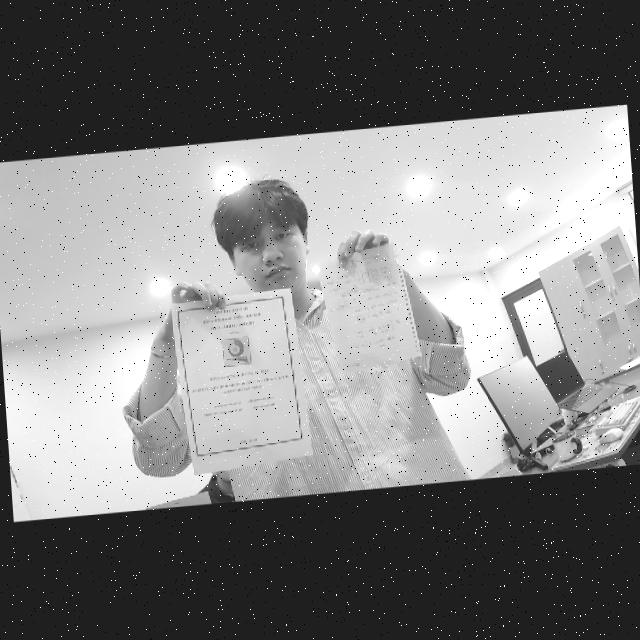document: (170, 288, 312, 474), (315, 241, 421, 374)
face: (242, 214, 301, 290)
